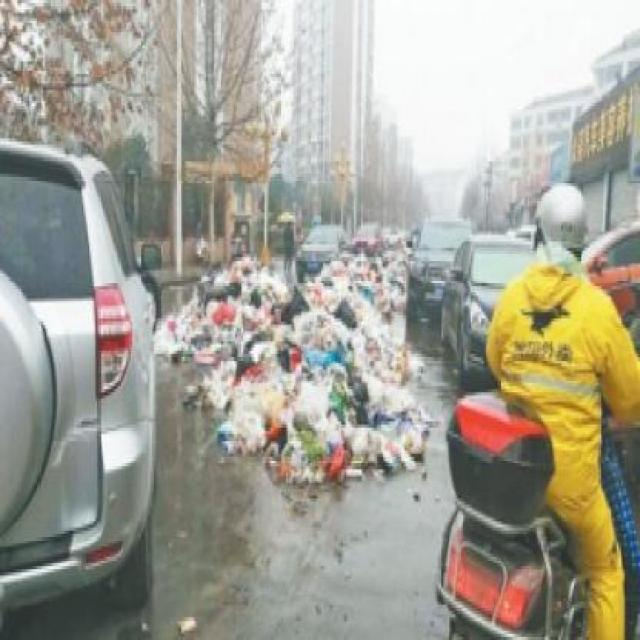garbage: (202, 257, 423, 466), (160, 298, 201, 346)
